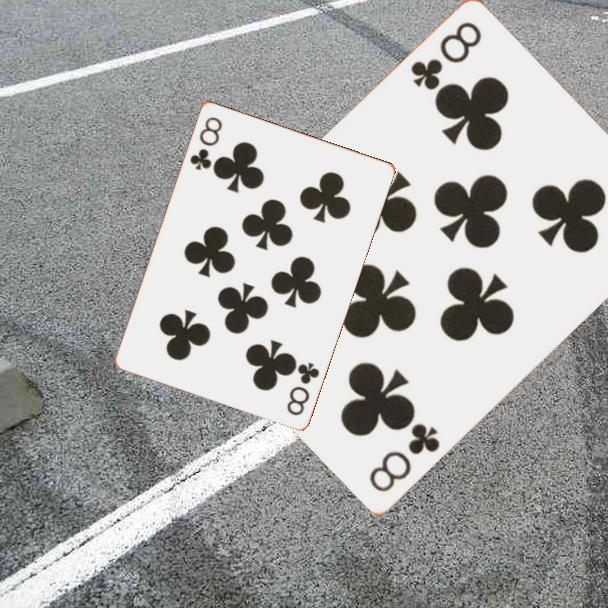c08: (365, 420, 443, 496), (407, 18, 485, 94), (186, 113, 225, 173), (283, 358, 322, 418)
